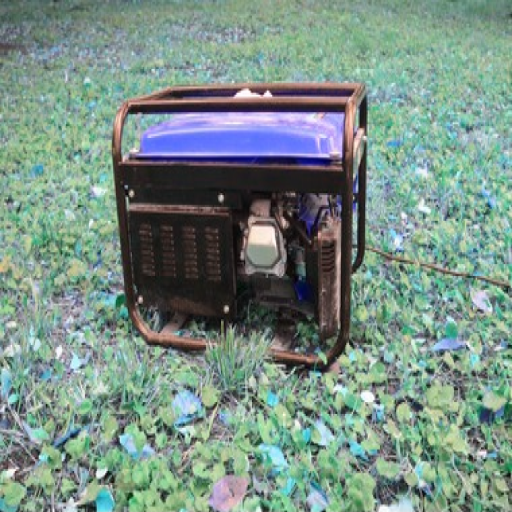portable_generator: (114, 80, 370, 371)
